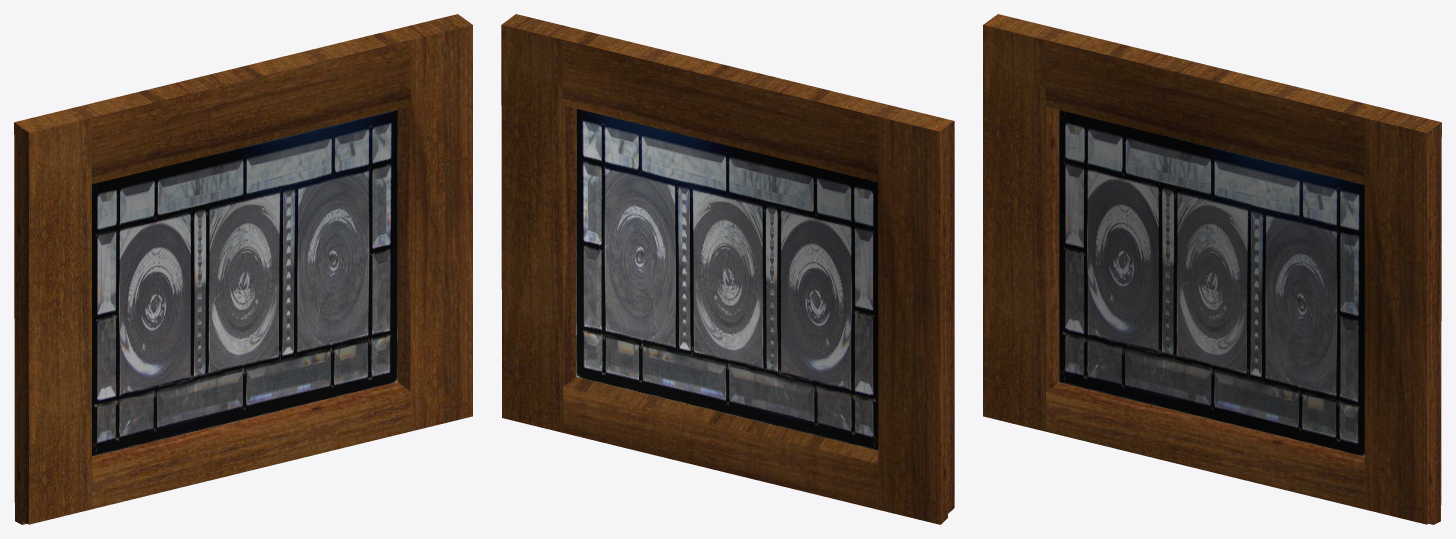
The model's file is StableDoorTeakUPPER03.fbx.
3 renders of one model, left to right at view 1: azimuth 30°, elevation 25°; view 2: azimuth 150°, elevation 25°; view 3: azimuth 330°, elevation 25°, orthographic.
Visible parts, largest first — view 1: default; view 2: default; view 3: default.
Part boxes in pixels (left/top/right/bottom): default: left=14, top=14, right=472, bottom=524; default: left=501, top=14, right=954, bottom=524; default: left=983, top=14, right=1441, bottom=524.
Size of the model in its own units: 113 by 96.82 by 6.56.
